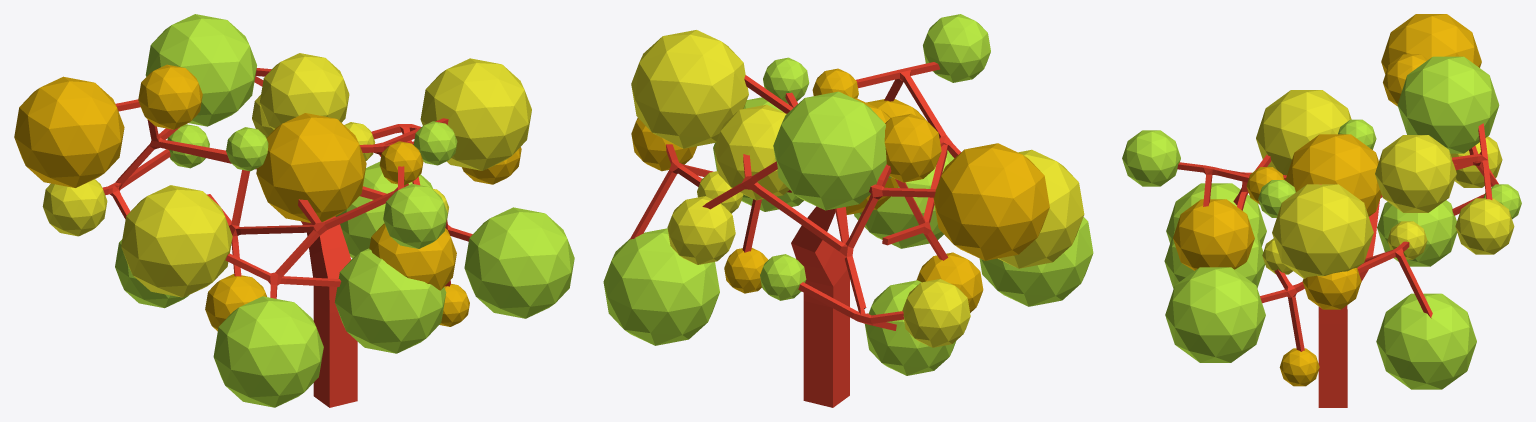
File: LowPolyOak4.fbx
3 renders of one model, left to right at view 1: azimuth 30°, elevation 25°; view 2: azimuth 150°, elevation 25°; view 3: azimuth 270°, elevation 25°, orthographic. The views are drawn at different scales.
Visible parts, largest first — view 1: Cube, Icosphere.012, Icosphere.003, Icosphere.002, Icosphere, Icosphere.004, Icosphere.013, Icosphere.011, Icosphere.014, Icosphere.021, Icosphere.007, Icosphere.009 (+11 smaller); view 2: Cube, Icosphere.002, Icosphere.014, Icosphere.013, Icosphere.001, Icosphere.021, Icosphere.003, Icosphere.012, Icosphere.022, Icosphere.006, Icosphere.005, Icosphere.009 (+12 smaller); view 3: Cube, Icosphere, Icosphere.013, Icosphere.001, Icosphere.014, Icosphere.021, Icosphere.012, Icosphere.004, Icosphere.023, Icosphere.002, Icosphere.022, Icosphere.009 (+13 smaller).
Part boxes in pixels (left/top/right/bottom): Cube: left=102, top=68, right=472, bottom=407; Icosphere.012: left=121, top=185, right=232, bottom=297; Icosphere.003: left=213, top=296, right=323, bottom=407; Icosphere.002: left=14, top=76, right=124, bottom=187; Icosphere: left=464, top=207, right=574, bottom=318; Icosphere.004: left=256, top=113, right=366, bottom=222; Icosphere.013: left=420, top=58, right=531, bottom=170; Icosphere.011: left=334, top=248, right=446, bottom=353; Icosphere.014: left=145, top=14, right=256, bottom=126; Icosphere.021: left=259, top=53, right=349, bottom=129; Icosphere.007: left=138, top=64, right=202, bottom=129; Icosphere.009: left=383, top=184, right=447, bottom=248; Cube: left=629, top=62, right=960, bottom=407; Icosphere.002: left=933, top=143, right=1049, bottom=260; Icosphere.014: left=773, top=91, right=886, bottom=210; Icosphere.013: left=631, top=30, right=748, bottom=148; Icosphere.001: left=603, top=228, right=719, bottom=345; Icosphere.021: left=714, top=104, right=789, bottom=200; Icosphere.003: left=979, top=217, right=1093, bottom=306; Icosphere.012: left=998, top=149, right=1084, bottom=268; Icosphere.022: left=865, top=280, right=955, bottom=375; Icosphere.006: left=902, top=279, right=970, bottom=347; Icosphere.005: left=667, top=196, right=735, bottom=264; Icosphere.009: left=923, top=14, right=990, bottom=82; Cube: left=1177, top=123, right=1498, bottom=407; Icosphere: left=1165, top=267, right=1265, bottom=362; Icosphere.013: left=1272, top=184, right=1373, bottom=278; Icosphere.001: left=1376, top=293, right=1476, bottom=389; Icosphere.014: left=1397, top=56, right=1499, bottom=153; Icosphere.021: left=1375, top=135, right=1456, bottom=212; Icosphere.012: left=1256, top=90, right=1351, bottom=175; Icosphere.004: left=1285, top=134, right=1381, bottom=216; Icosphere.023: left=1173, top=199, right=1254, bottom=270; Icosphere.002: left=1381, top=14, right=1481, bottom=74; Icosphere.022: left=1377, top=200, right=1457, bottom=266; Icosphere.009: left=1122, top=130, right=1180, bottom=186.
Size of the model in its own units: 900 by 684 by 793.
